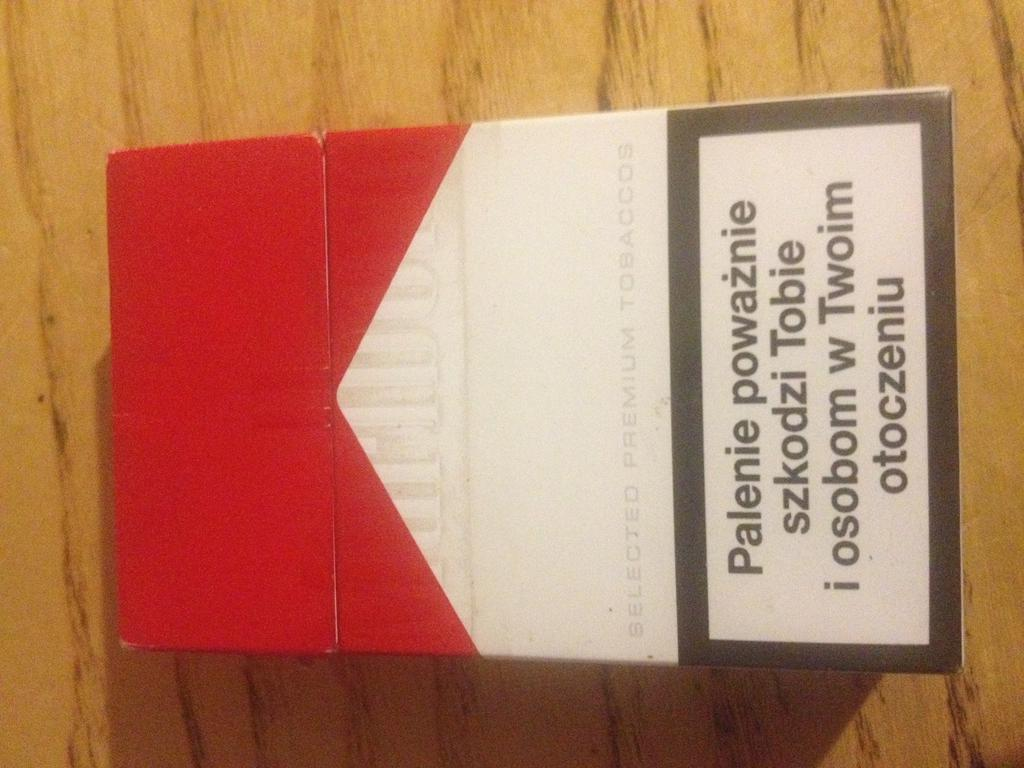marlboro_red: (117, 144, 948, 654)
